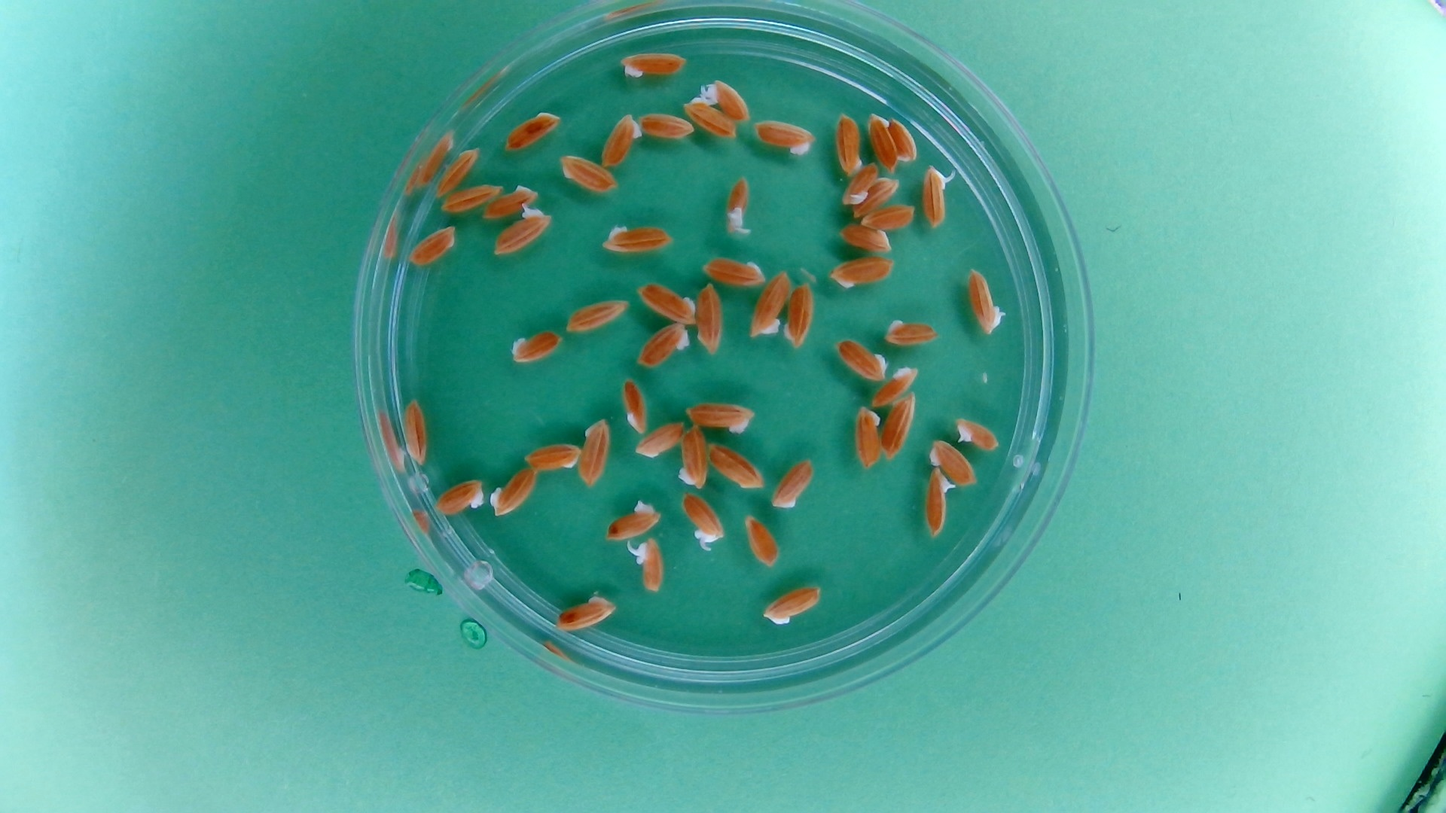no: (746, 266, 794, 341), (632, 279, 699, 326), (706, 440, 766, 492), (598, 218, 676, 257), (682, 398, 760, 437), (750, 115, 819, 159), (966, 264, 1008, 336), (556, 151, 621, 197), (879, 388, 919, 462), (487, 465, 541, 519), (502, 107, 564, 154), (831, 334, 889, 384), (633, 321, 691, 371), (597, 108, 643, 171), (553, 592, 620, 635), (825, 253, 898, 292), (926, 436, 980, 488), (769, 454, 817, 512), (761, 583, 824, 627), (602, 498, 663, 543), (576, 415, 613, 489), (563, 296, 631, 336), (781, 277, 818, 350), (618, 46, 691, 82), (682, 95, 739, 141), (404, 222, 459, 269), (699, 252, 768, 289), (435, 143, 481, 198), (480, 180, 541, 221), (675, 424, 711, 492), (694, 282, 726, 358), (740, 512, 781, 570), (399, 396, 432, 468), (869, 364, 920, 410), (850, 403, 884, 472), (831, 110, 865, 178), (506, 328, 565, 367), (439, 180, 504, 215), (880, 313, 943, 349), (432, 476, 486, 518), (833, 221, 895, 257), (633, 419, 686, 461), (865, 111, 900, 174), (636, 110, 697, 144), (853, 175, 901, 218), (522, 440, 582, 473), (619, 374, 651, 434), (840, 161, 880, 208), (887, 112, 920, 168), (859, 202, 918, 233)
yes: (492, 206, 553, 257), (679, 490, 726, 547), (923, 467, 956, 537), (702, 76, 752, 121), (921, 163, 955, 229), (630, 535, 668, 592), (722, 172, 753, 237)
